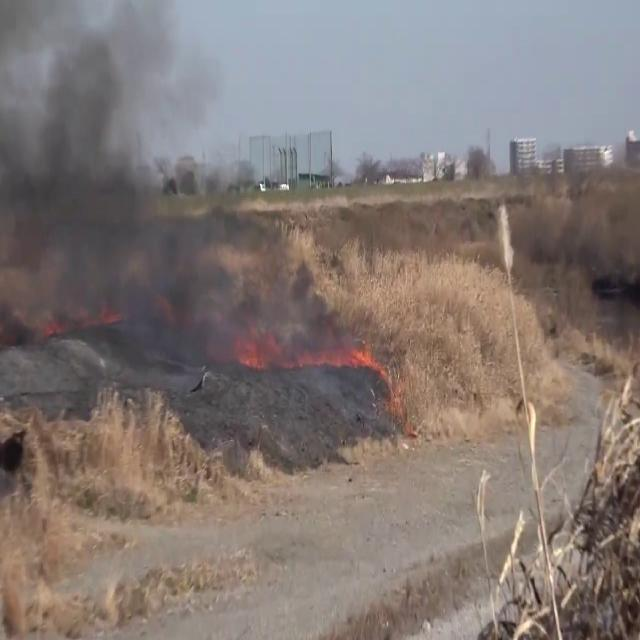Smoke: (0, 1, 288, 441)
